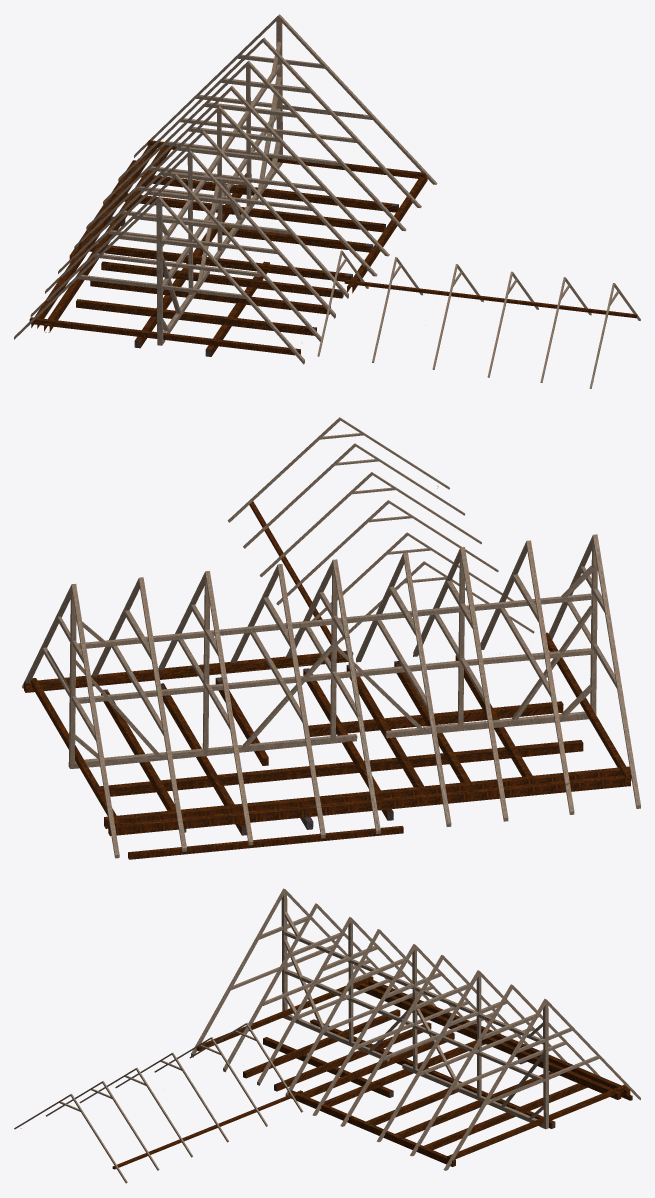
The model's file is krovy.gltf.
The picture shows the model from 3 angles, top to bottom: view 1: azimuth 30°, elevation 25°; view 2: azimuth 150°, elevation 25°; view 3: azimuth 270°, elevation 25°; orthographic projection. The views are drawn at different scales.
Visible parts, largest first — view 1: root; view 2: root; view 3: root.
Boxes of the visible parts, x1,y1,x2,y2 form: root: (14, 14, 640, 388); root: (22, 417, 640, 859); root: (14, 888, 640, 1183).
Bounding box in the file's own units: 21.86 × 7.26 × 28.63.
Materials: 8 (7 with a texture image).
